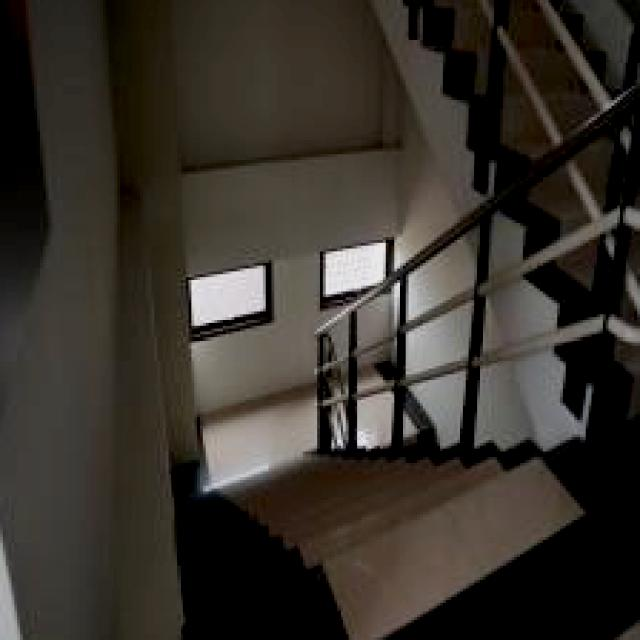downstair: (201, 456, 487, 616)
